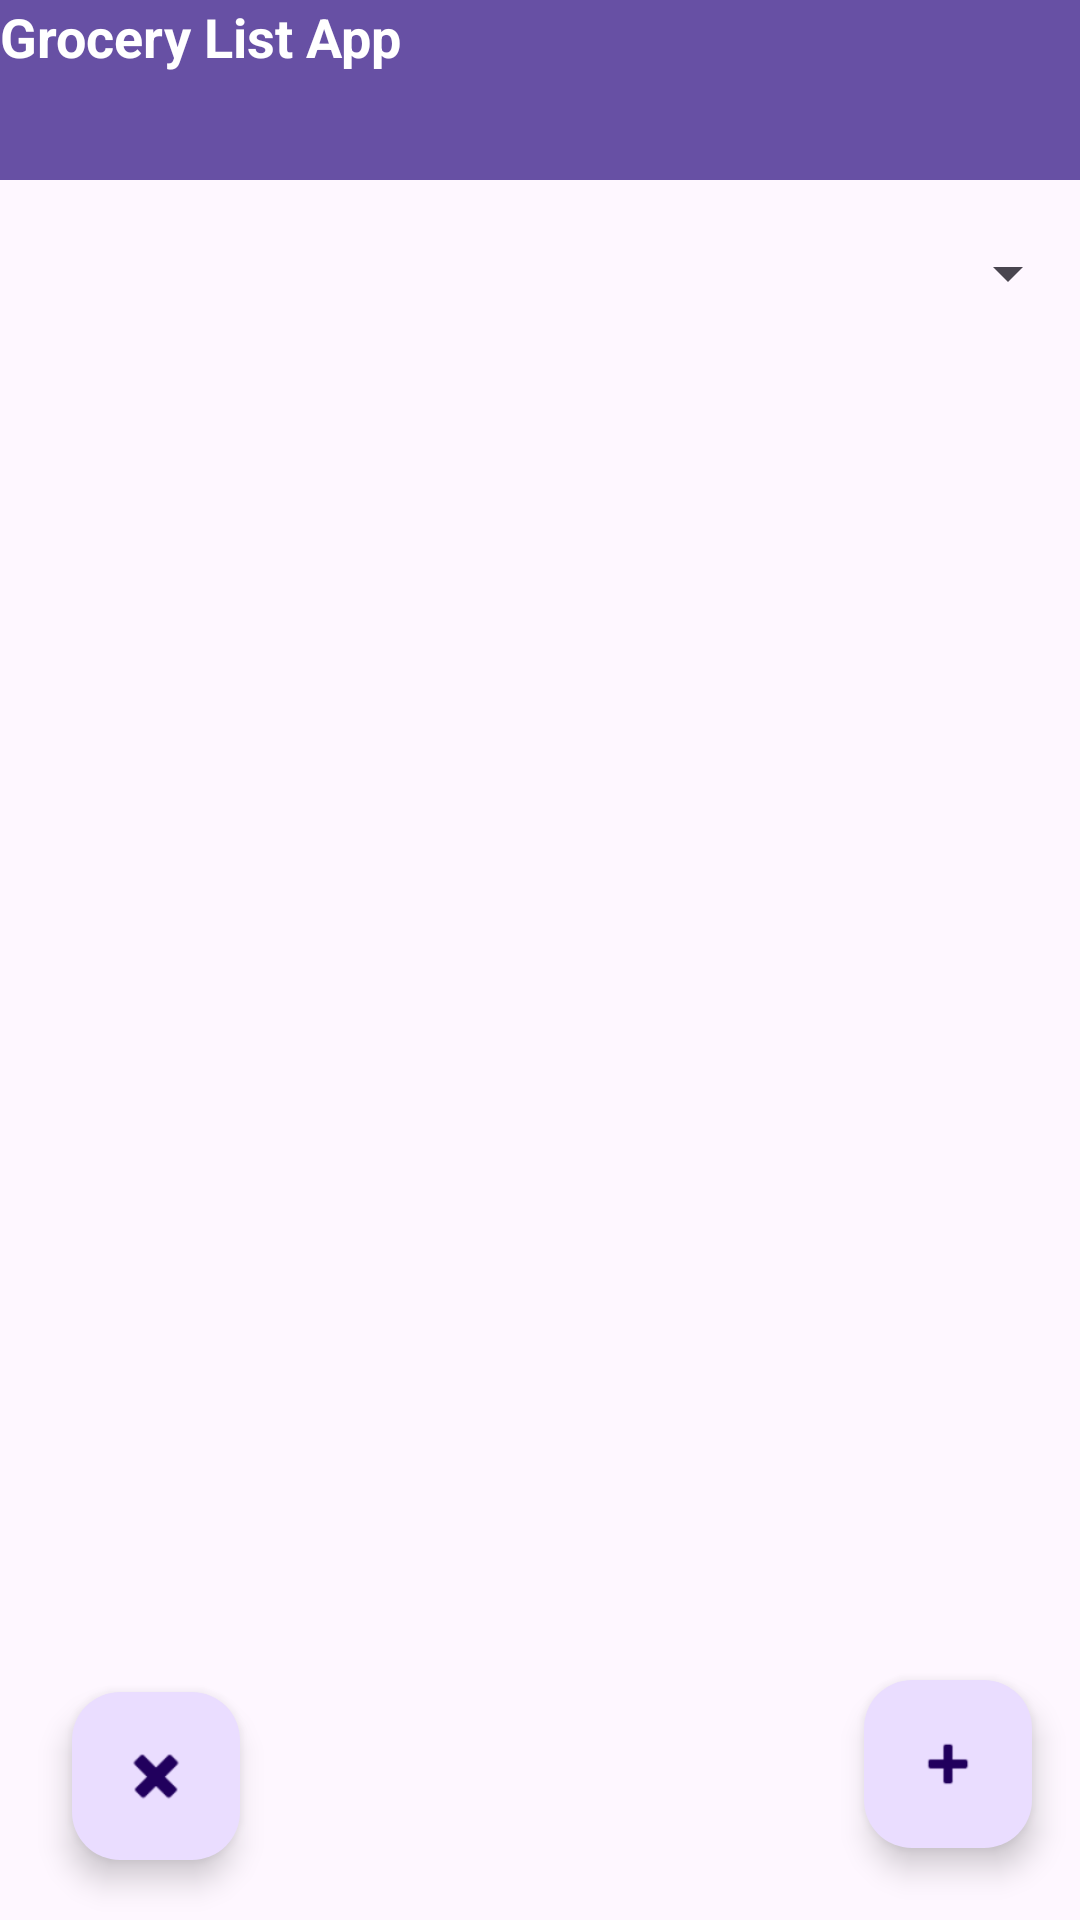

Named icons in this screenshot (1080 x 1920) and their centers, (x,y):
add: (948,1764)
delete: (156,1776)
